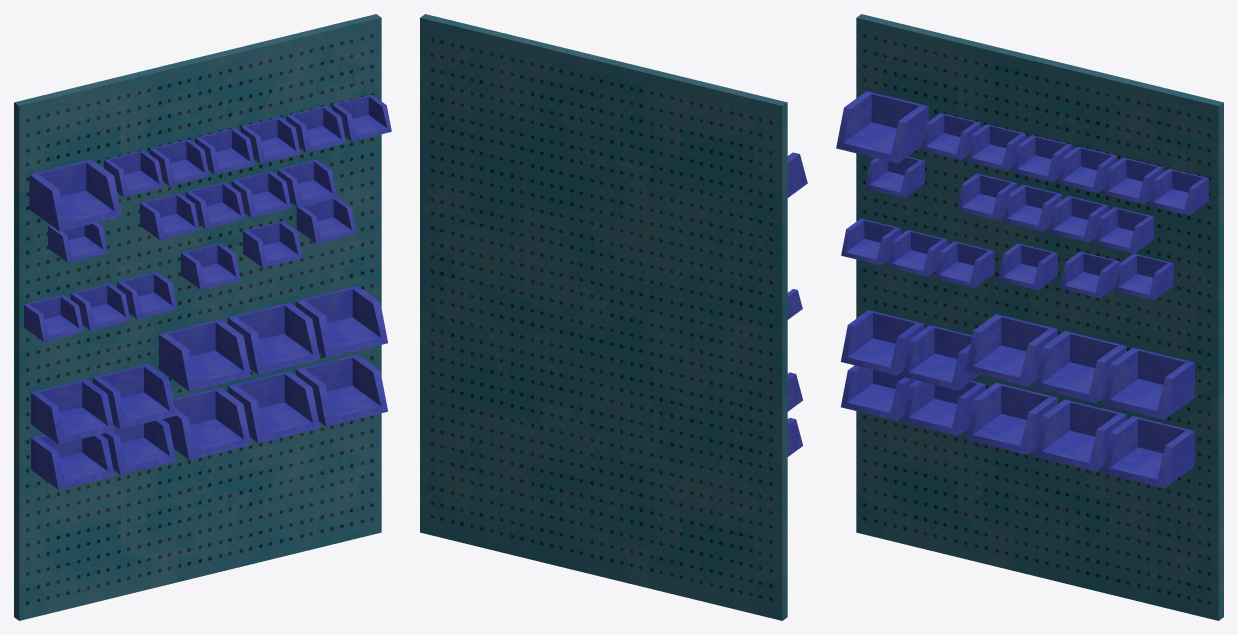
The model's file is zhiwu.FBX.
3 renders of one model, left to right at view 1: azimuth 30°, elevation 25°; view 2: azimuth 150°, elevation 25°; view 3: azimuth 330°, elevation 25°, orthographic.
Parts seen in each view (by area): view 1: YF_Model_zhiwuban, YF_Model_zhiwuban01, YF_Model_zhiwu; view 2: YF_Model_zhiwuban, YF_Model_zhiwuban01, YF_Model_zhiwu; view 3: YF_Model_zhiwuban, YF_Model_zhiwuban01, YF_Model_zhiwu.
Boxes of the visible parts, bbox=[...] form: YF_Model_zhiwuban: bbox=[14, 14, 381, 620]; YF_Model_zhiwuban01: bbox=[24, 94, 391, 489]; YF_Model_zhiwu: bbox=[29, 159, 121, 231]; YF_Model_zhiwuban: bbox=[420, 14, 787, 620]; YF_Model_zhiwuban01: bbox=[787, 289, 803, 456]; YF_Model_zhiwu: bbox=[787, 152, 807, 197]; YF_Model_zhiwuban: bbox=[856, 14, 1223, 620]; YF_Model_zhiwuban01: bbox=[840, 113, 1208, 488]; YF_Model_zhiwu: bbox=[836, 91, 928, 163].
Size of the model in its own units: 88.39 by 120 by 15.05.
Materials: 1 (1 with a texture image).
